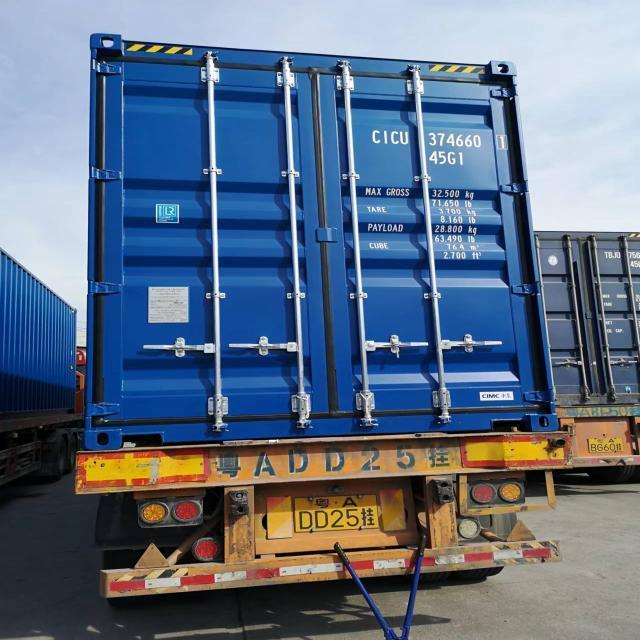ISO: (430, 151, 463, 167)
container_number: (368, 128, 494, 150)
